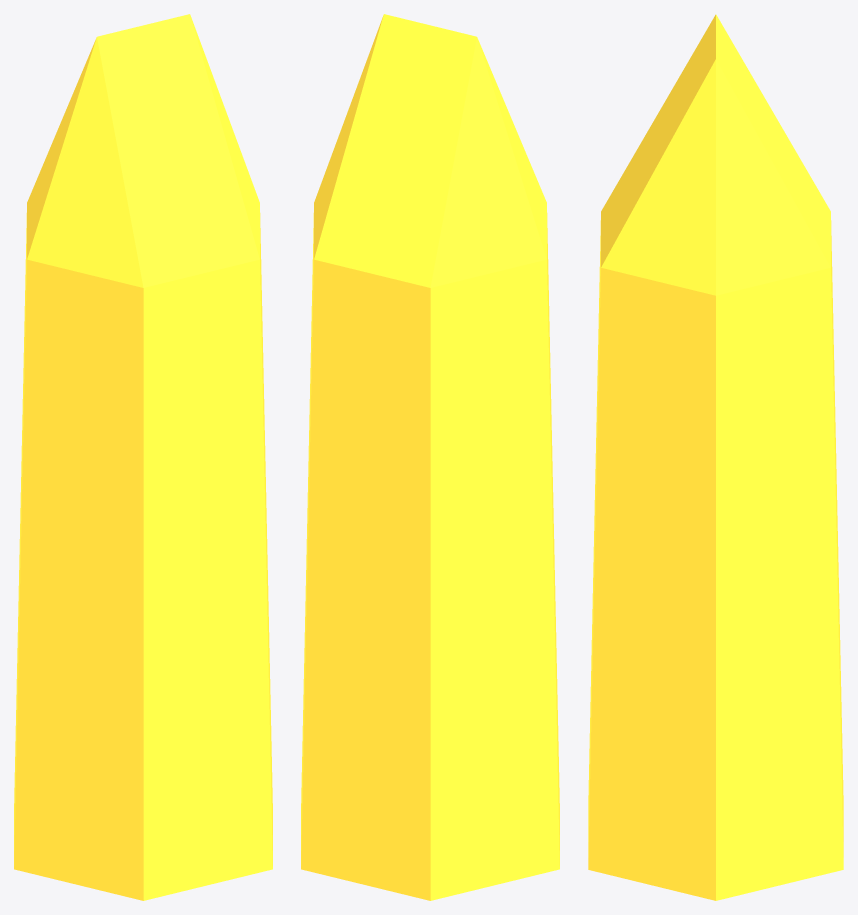
File: GEM_04_ChiselQuartz.fbx
3 renders of one model, left to right at view 1: azimuth 30°, elevation 25°; view 2: azimuth 150°, elevation 25°; view 3: azimuth 270°, elevation 25°, orthographic.
Visible parts, largest first — view 1: GEM_04_ChiselQuartz; view 2: GEM_04_ChiselQuartz; view 3: GEM_04_ChiselQuartz.
Boxes of the visible parts, x1,y1,x2,y2 form: GEM_04_ChiselQuartz: [14, 14, 272, 900]; GEM_04_ChiselQuartz: [301, 14, 559, 900]; GEM_04_ChiselQuartz: [588, 14, 843, 900].
Size of the model in its own units: 0.5 by 1.5 by 0.433.
